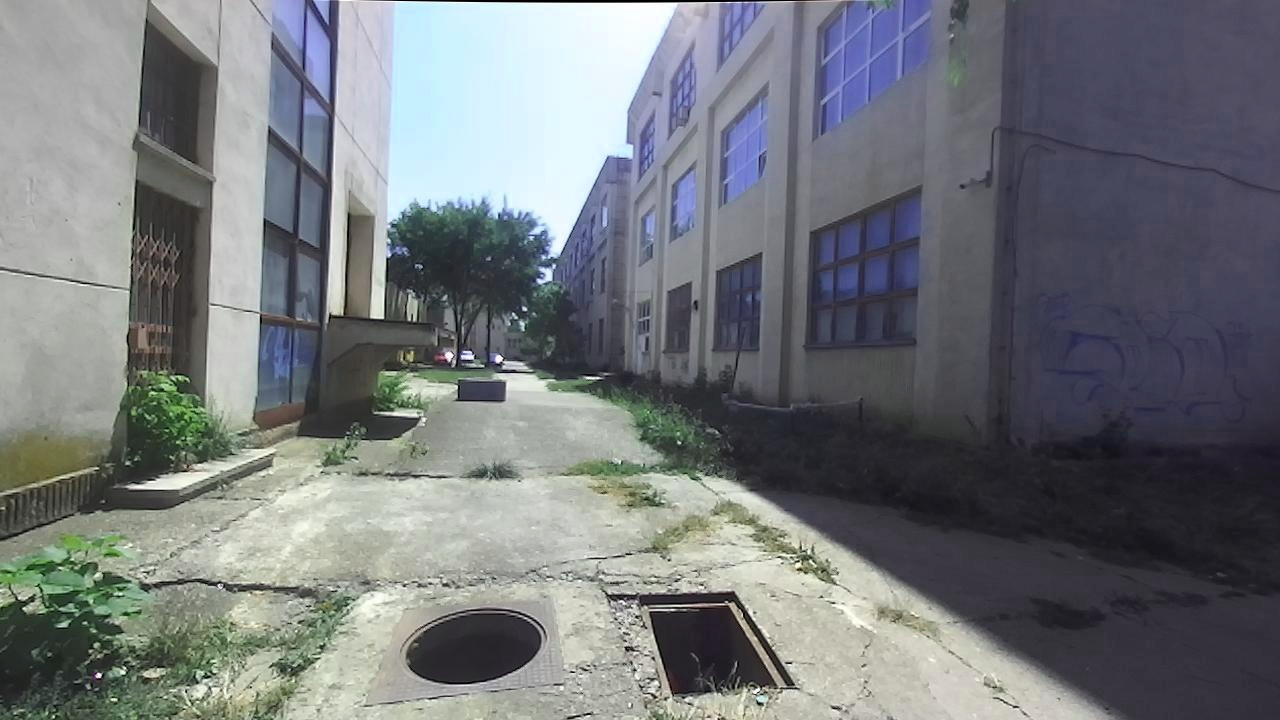drain: (634, 582, 805, 696), (392, 600, 551, 685)
